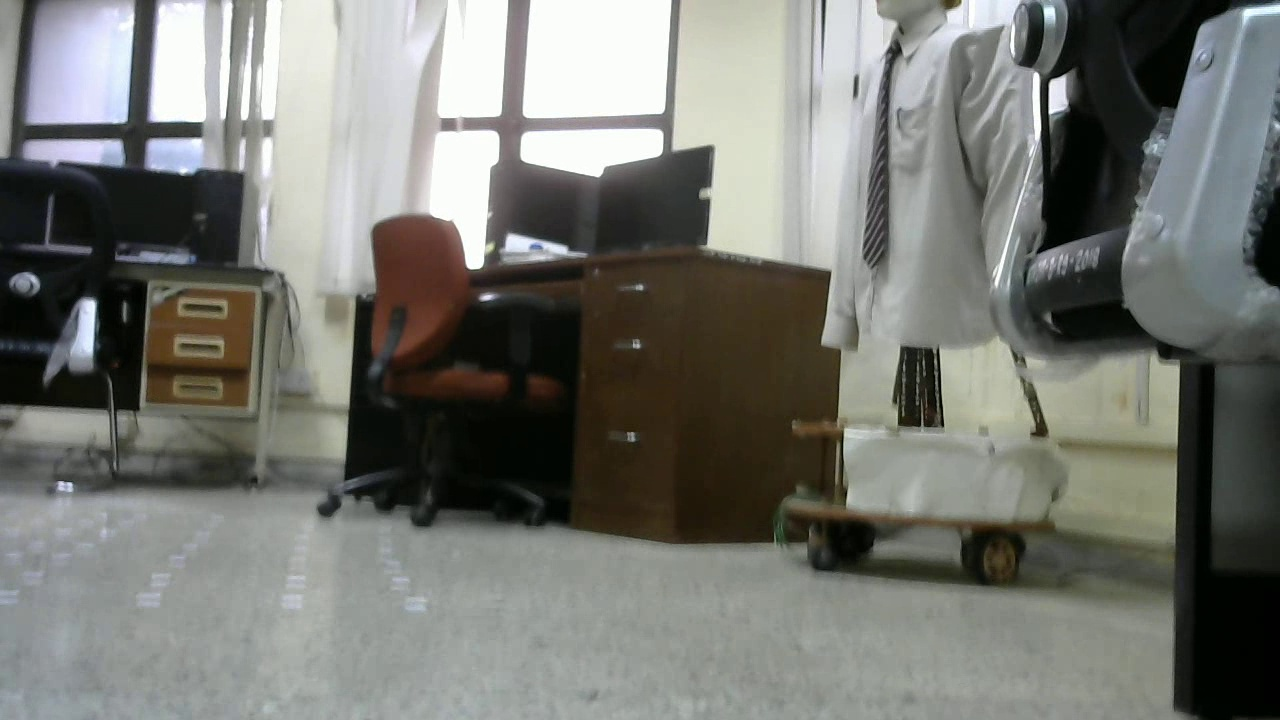chair: (315, 213, 566, 527), (1, 163, 133, 490)
